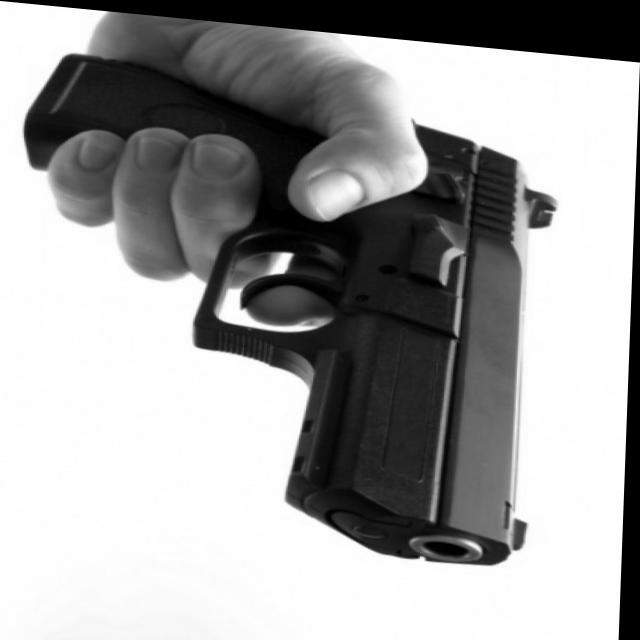handgun: (13, 48, 565, 562)
